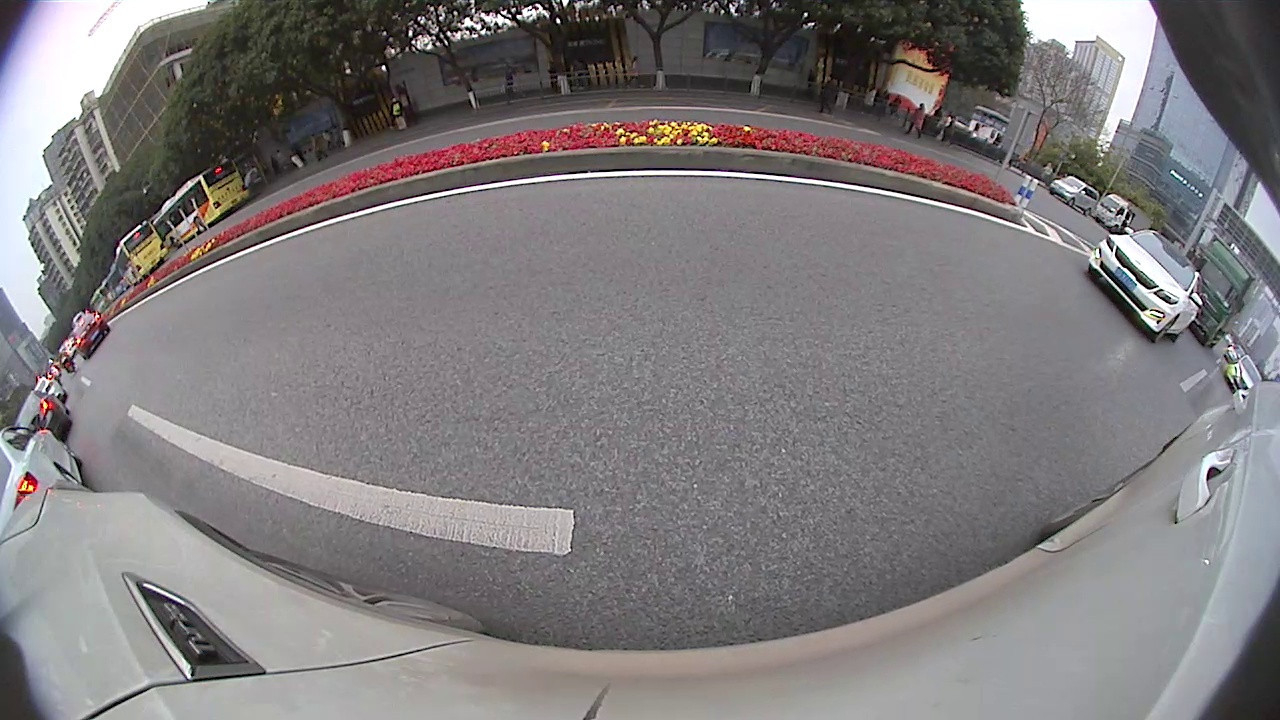bus: (152, 153, 254, 252), (111, 218, 172, 289)
car: (1088, 229, 1204, 347), (1, 427, 84, 536), (16, 393, 70, 452), (1048, 174, 1101, 214), (73, 312, 111, 360), (1226, 356, 1266, 396)
rider: (58, 353, 79, 377)
truck: (1194, 231, 1253, 347), (1100, 191, 1154, 240)
